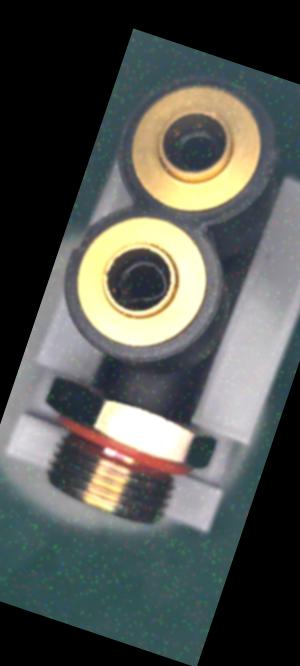bump: (71, 231, 89, 257)
off-centered: (105, 248, 178, 319)
white mark: (129, 385, 152, 405)
